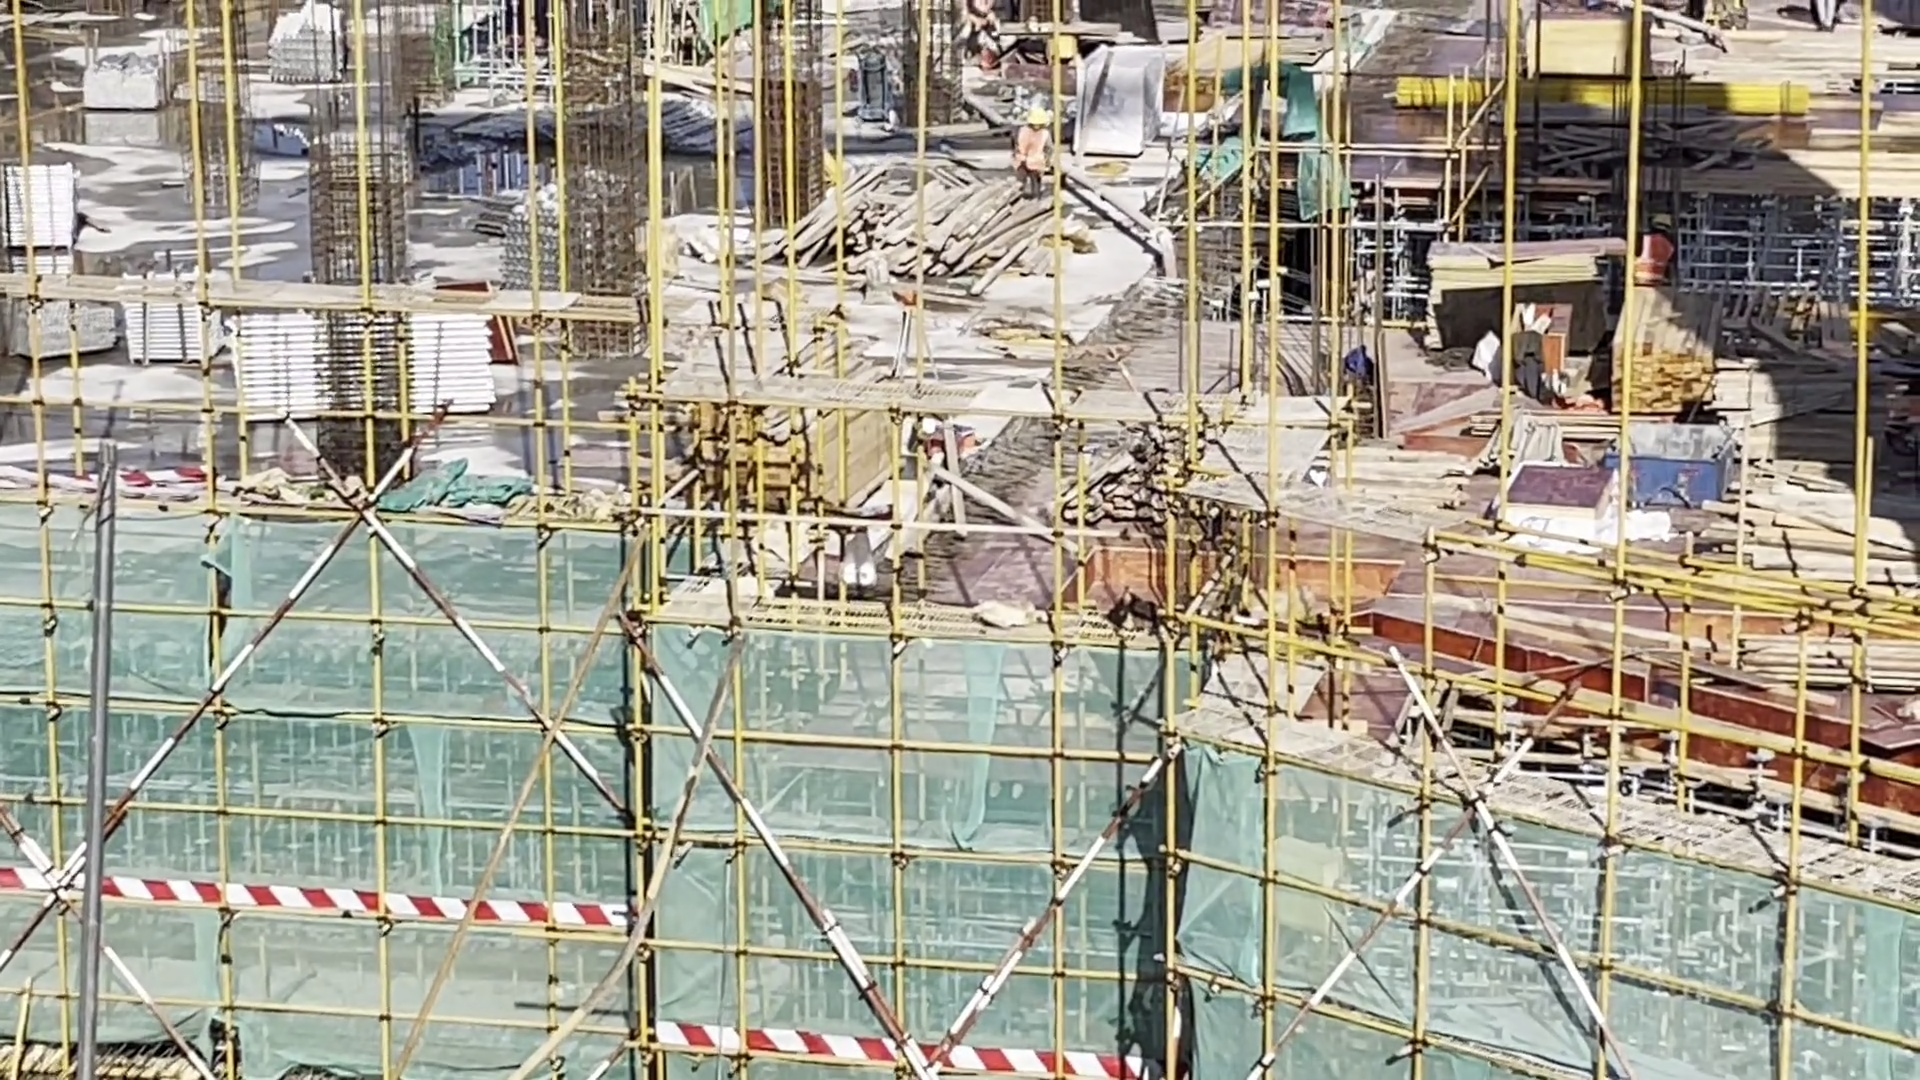helmet: (1020, 101, 1046, 130), (1648, 213, 1672, 235)
hopper: (1622, 418, 1755, 513)
person: (1007, 105, 1056, 202), (905, 416, 962, 481), (1638, 214, 1674, 285)
scaffold: (217, 276, 481, 407), (122, 268, 203, 370), (266, 20, 345, 89), (11, 163, 75, 240)
vest: (1641, 232, 1670, 288), (1014, 130, 1045, 171)
wood: (810, 160, 1052, 323), (673, 402, 864, 497), (1599, 292, 1712, 450), (1733, 626, 1920, 712)
